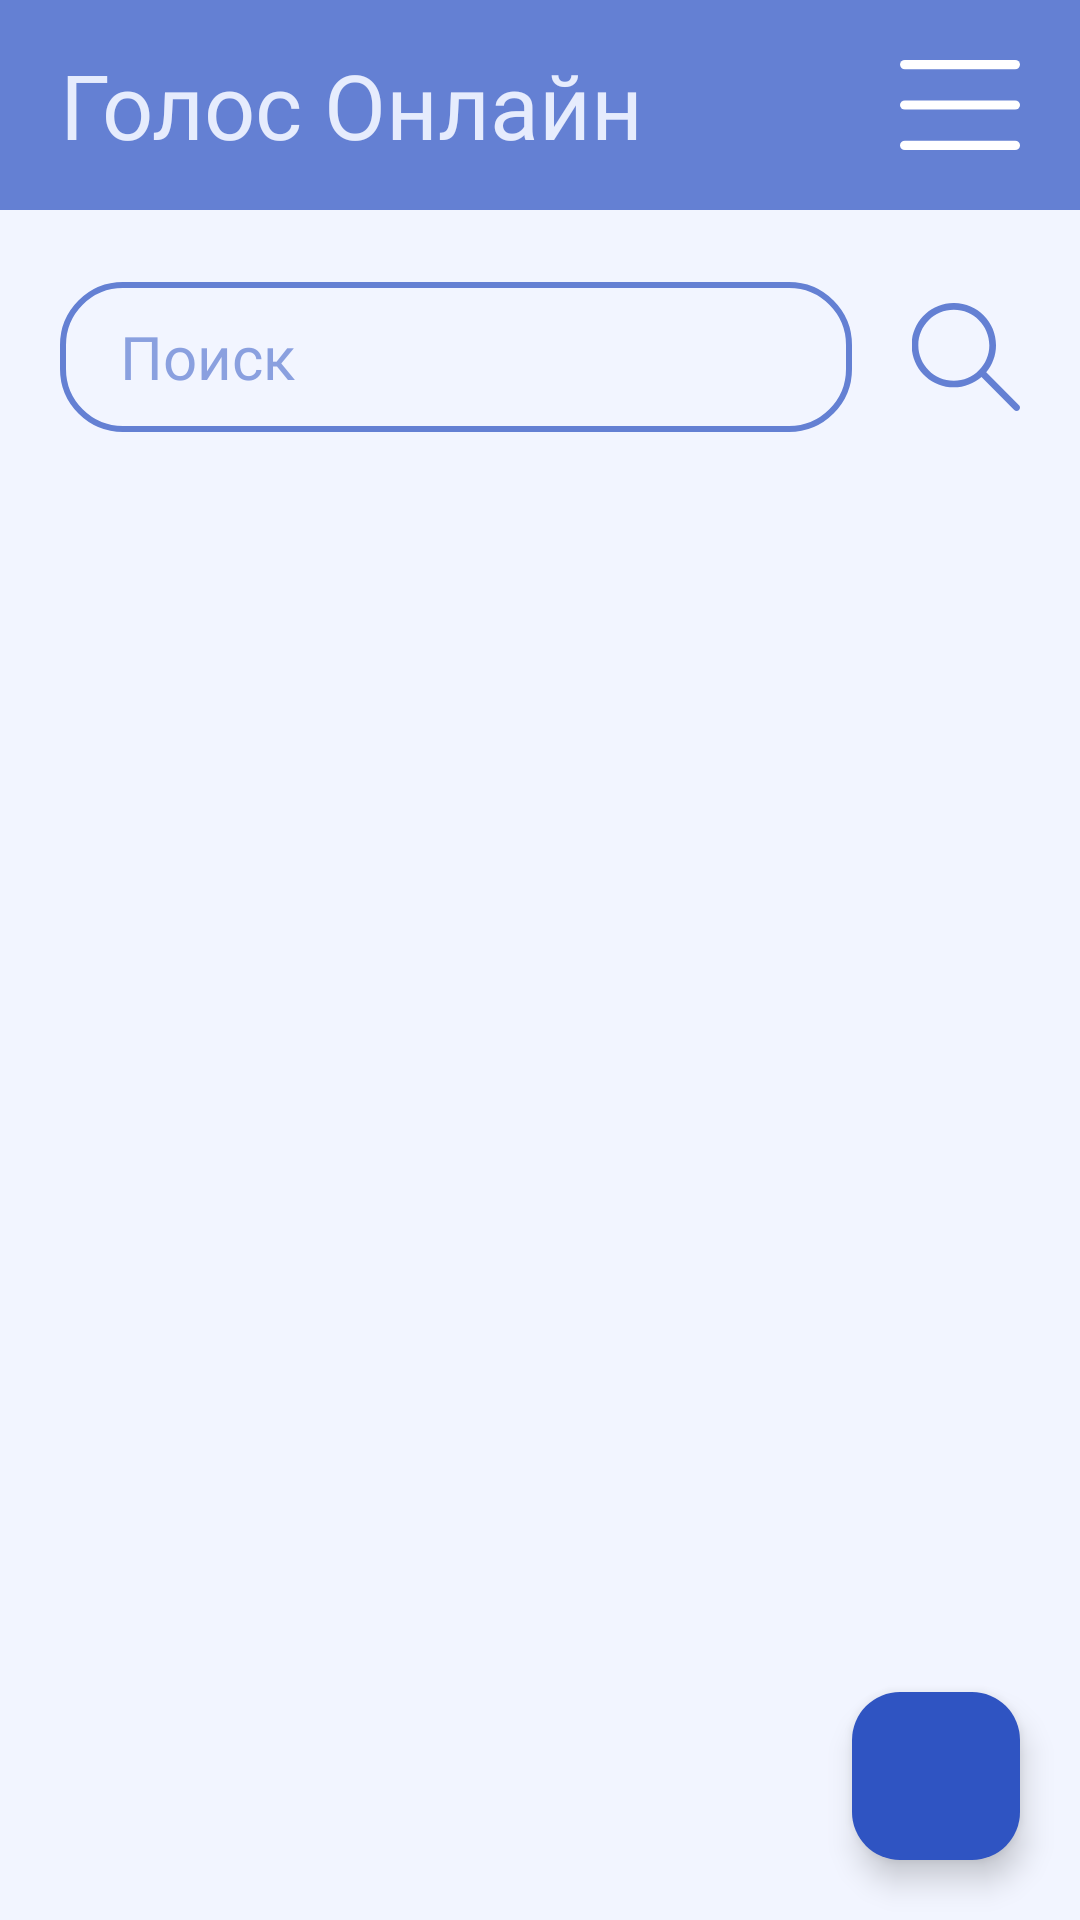

Screen size 1080 x 1920. Icon name, then its center in pixels as point (x, y):
magnifier: point (966, 357)
